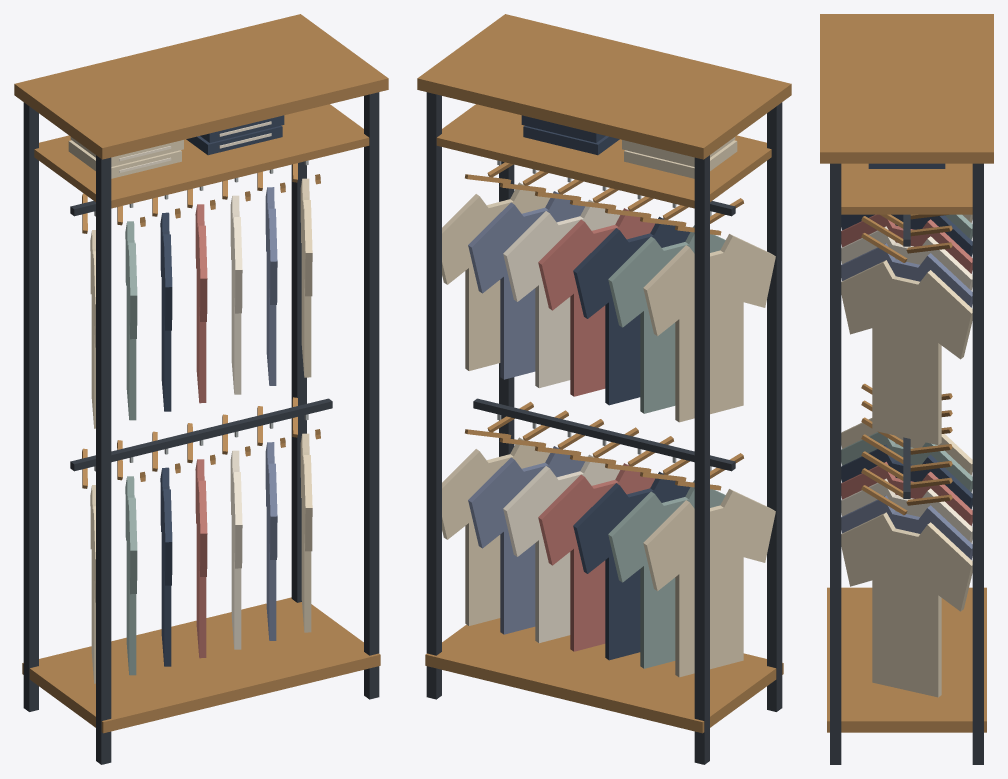
File: shelf-clothing-wall.glb
3 renders of one model, left to right at view 1: azimuth 30°, elevation 25°; view 2: azimuth 150°, elevation 25°; view 3: azimuth 270°, elevation 25°, orthographic.
Visible parts, largest first — view 1: clothing-top-deck (×2), fixture-upright (×4), clothing-base-deck, stock-garments_e6d8be, stock-garments_9aafaa, stock-garments_f1e8d8, stock-garments_404e64, stock-garments_c17b73, stock-garments_7e89a4, clothing-hanging-rail, stock-packages_e6d8be, stock-packages_404e64 (+1 smaller); view 2: clothing-top-deck (×2), stock-garments_e6d8be, fixture-upright (×4), clothing-base-deck, stock-garments_7e89a4, stock-garments_f1e8d8, stock-garments_404e64, stock-garments_c17b73, stock-garments_9aafaa, clothing-hanging-rail, stock-packages_e6d8be, stock-packages_404e64; view 3: clothing-top-deck (×2), stock-garments_e6d8be, fixture-upright (×2), clothing-base-deck, stock-garments_7e89a4, stock-garments_f1e8d8, stock-garments_c17b73, stock-garments_404e64, stock-garments_9aafaa, hanger-shoulder (×2), clothing-hanging-rail, stock-packages_404e64.
Part boxes in pixels (x1,y1,x2,y2): clothing-top-deck (×2): (14, 14, 388, 208); fixture-upright (×4): (23, 92, 379, 764); clothing-base-deck: (22, 597, 380, 733); stock-garments_e6d8be: (90, 178, 312, 683); stock-garments_9aafaa: (125, 221, 137, 675); stock-garments_f1e8d8: (230, 195, 242, 649); stock-garments_404e64: (160, 212, 172, 666); stock-garments_c17b73: (195, 204, 207, 658); stock-garments_7e89a4: (265, 187, 277, 640); clothing-hanging-rail: (70, 398, 332, 471); stock-packages_e6d8be: (68, 137, 183, 178); stock-packages_404e64: (186, 115, 284, 155); clothing-top-deck (×2): (417, 14, 791, 208); stock-garments_e6d8be: (442, 182, 775, 677); fixture-upright (×4): (426, 92, 782, 764); clothing-base-deck: (425, 618, 783, 733); stock-garments_7e89a4: (468, 191, 585, 634); stock-garments_f1e8d8: (503, 199, 619, 643); stock-garments_404e64: (573, 216, 690, 660); stock-garments_c17b73: (538, 208, 655, 651); stock-garments_9aafaa: (608, 225, 725, 668); clothing-hanging-rail: (473, 398, 735, 471); stock-packages_e6d8be: (622, 137, 737, 178); stock-packages_404e64: (521, 115, 619, 155); clothing-top-deck (×2): (820, 14, 993, 214); stock-garments_e6d8be: (841, 214, 972, 697); fixture-upright (×2): (830, 163, 983, 764); clothing-base-deck: (827, 587, 986, 732); stock-garments_7e89a4: (841, 243, 972, 559); stock-garments_f1e8d8: (841, 226, 972, 542); stock-garments_c17b73: (841, 214, 972, 525); stock-garments_404e64: (841, 214, 972, 509); stock-garments_9aafaa: (841, 214, 972, 492); hanger-shoulder (×2): (861, 233, 907, 515); clothing-hanging-rail: (903, 437, 910, 498); stock-packages_404e64: (868, 163, 945, 168).
Bounding box in the file's own units: 0.94 × 1.95 × 0.5.
